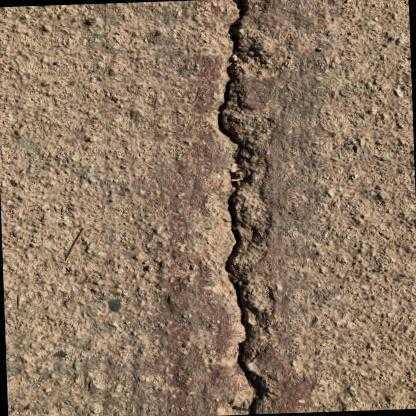crack: (217, 0, 262, 415)
